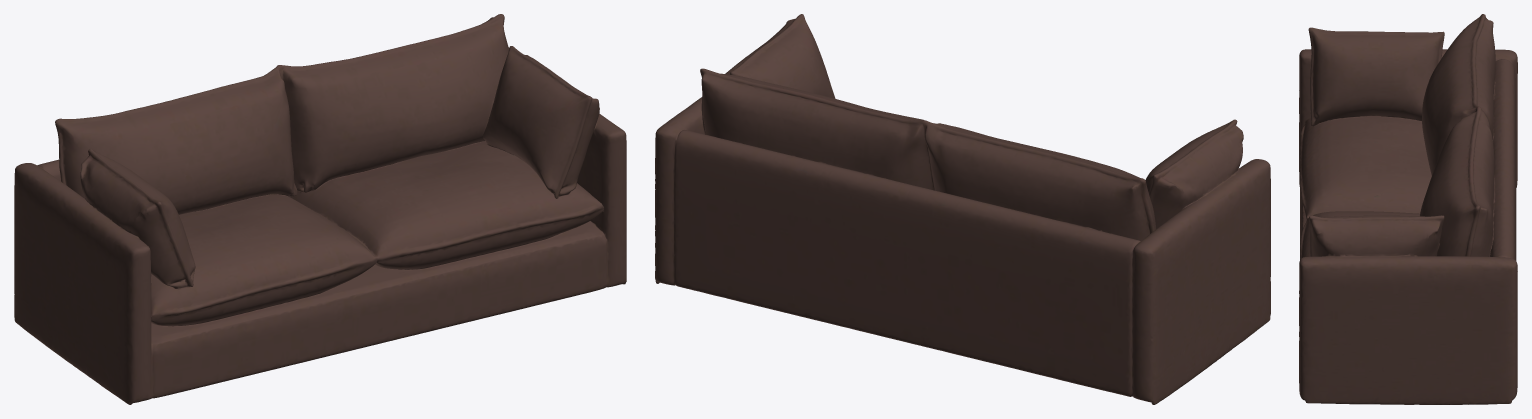
Rendered from floor-lamp-2.glb.
The picture shows the model from 3 angles, left to right: view 1: azimuth 30°, elevation 25°; view 2: azimuth 150°, elevation 25°; view 3: azimuth 270°, elevation 25°; orthographic projection. The views are drawn at different scales.
Parts seen in each view (by area): view 1: world; view 2: world; view 3: world.
Part boxes in pixels (bbox=[...]): world: bbox=[14, 14, 626, 404]; world: bbox=[655, 14, 1270, 404]; world: bbox=[1299, 14, 1517, 404].
Bounding box in the file's own units: 1 × 0.405 × 0.425.
1 material, 1 textured.
